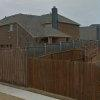Chimney: (46, 3, 68, 36)
